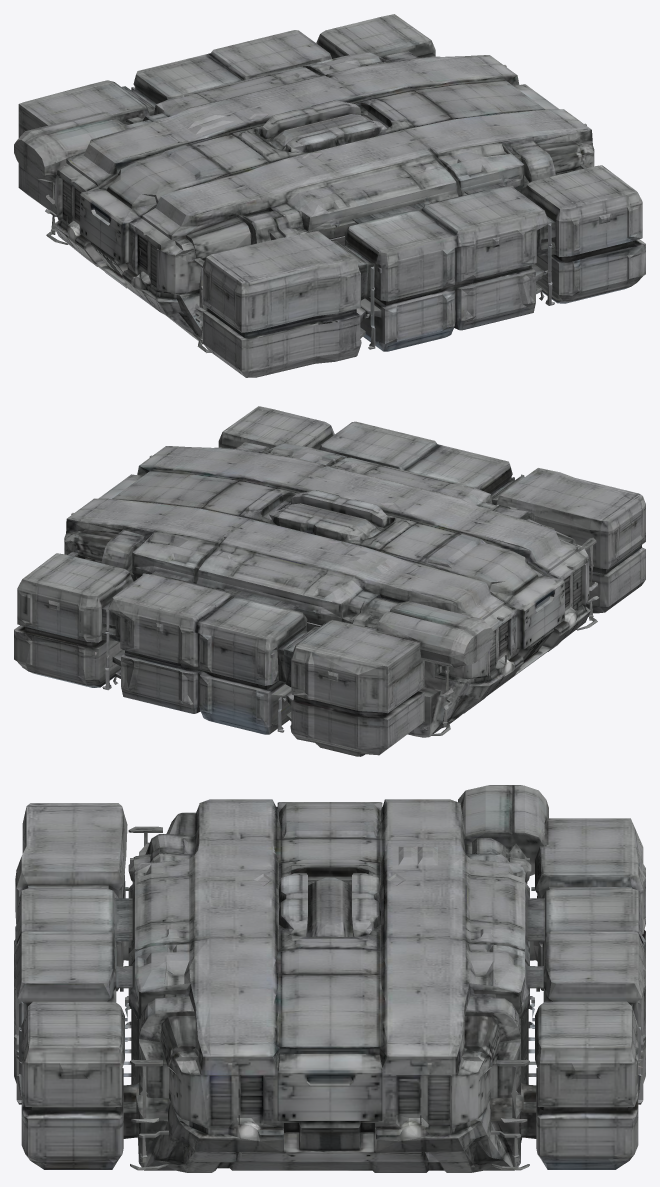
Rendered from CargoDroneType1.glb.
The picture shows the model from 3 angles, top to bottom: view 1: azimuth 30°, elevation 25°; view 2: azimuth 150°, elevation 25°; view 3: azimuth 270°, elevation 25°; orthographic projection. The views are drawn at different scales.
Visible parts, largest first — view 1: tripo_node_349b3125-dec9-463b-851a-618f639750a6; view 2: tripo_node_349b3125-dec9-463b-851a-618f639750a6; view 3: tripo_node_349b3125-dec9-463b-851a-618f639750a6.
Part boxes in pixels (x1,y1,x2,y2): tripo_node_349b3125-dec9-463b-851a-618f639750a6: [14, 14, 645, 377]; tripo_node_349b3125-dec9-463b-851a-618f639750a6: [14, 406, 645, 756]; tripo_node_349b3125-dec9-463b-851a-618f639750a6: [14, 785, 645, 1172].
Bounding box in the file's own units: 0.9981 × 0.2994 × 0.9805.
1 material, 1 textured.
